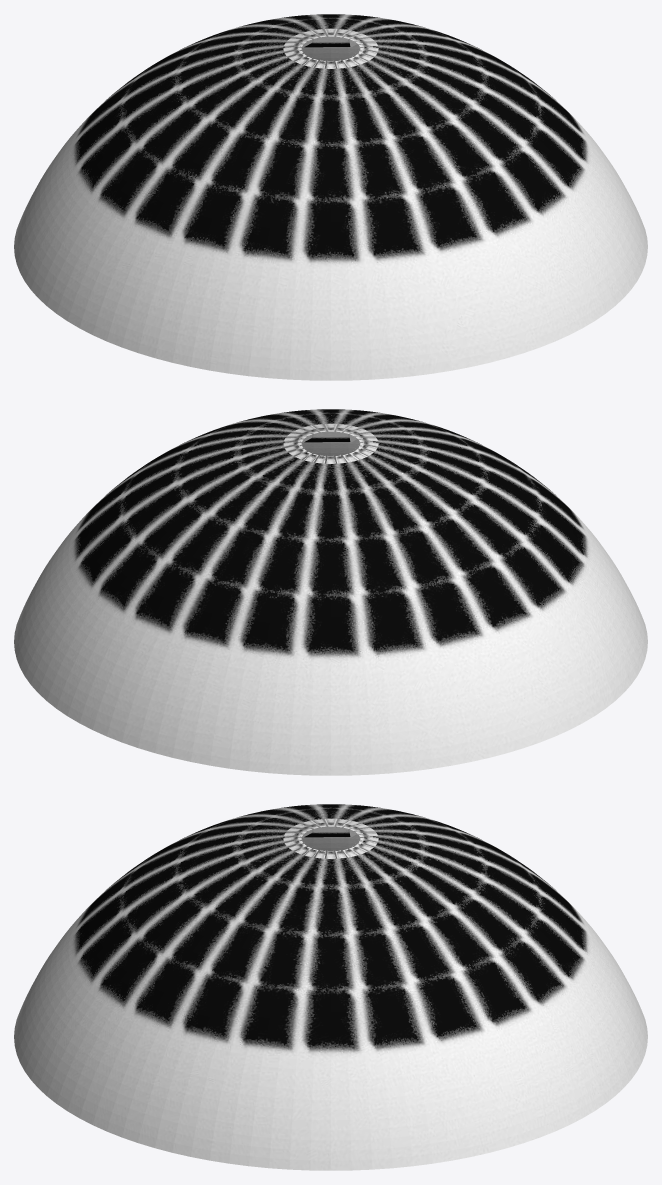
File: dome_hall_w3.glb
3 renders of one model, top to bottom at view 1: azimuth 30°, elevation 25°; view 2: azimuth 150°, elevation 25°; view 3: azimuth 270°, elevation 25°, orthographic.
Parts seen in each view (by area): view 1: DomeHallW3; view 2: DomeHallW3; view 3: DomeHallW3.
Boxes of the visible parts, box(x1,y1,x2,y2) form: DomeHallW3: box(14, 14, 647, 380); DomeHallW3: box(14, 409, 647, 775); DomeHallW3: box(14, 804, 647, 1170).
Size of the model in its own units: 40 by 13.87 by 40.
2 materials, 2 textured.
